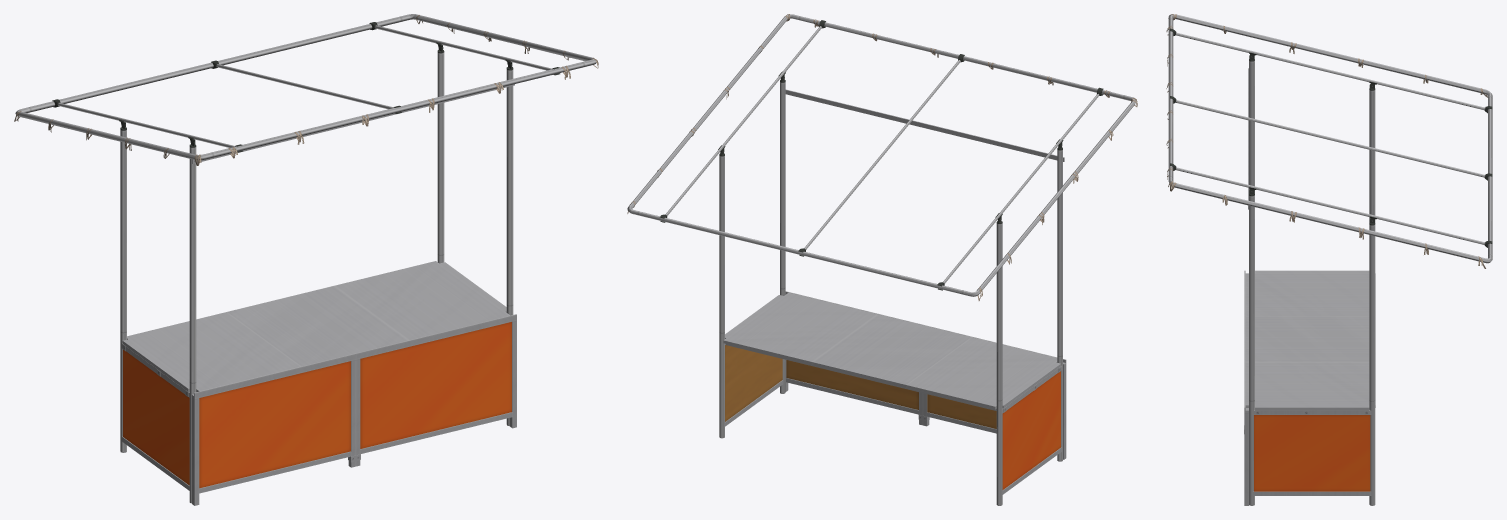
The model's file is jsf_4P_s02_c01_t01.fbx.
The picture shows the model from 3 angles, left to right: view 1: azimuth 30°, elevation 25°; view 2: azimuth 150°, elevation 25°; view 3: azimuth 270°, elevation 25°; orthographic projection. The views are drawn at different scales.
Visible parts, largest first — view 1: Base_s02_c01, Table_4P_s02_t01, Pillar4_s02, Rope_4P_s02; view 2: Table_4P_s02_t01, Pillar4_s02, Base_s02_c01, Rope_4P_s02; view 3: Table_4P_s02_t01, Pillar4_s02, Base_s02_c01, Rope_4P_s02.
Part boxes in pixels (bbox=[...]): Base_s02_c01: bbox=[121, 314, 516, 505]; Table_4P_s02_t01: bbox=[122, 261, 509, 396]; Pillar4_s02: bbox=[15, 14, 596, 503]; Rope_4P_s02: bbox=[14, 15, 598, 165]; Table_4P_s02_t01: bbox=[723, 292, 1061, 412]; Pillar4_s02: bbox=[627, 14, 1136, 505]; Base_s02_c01: bbox=[725, 291, 1066, 494]; Rope_4P_s02: bbox=[627, 14, 1137, 300]; Table_4P_s02_t01: bbox=[1245, 270, 1375, 414]; Pillar4_s02: bbox=[1168, 14, 1492, 505]; Base_s02_c01: bbox=[1244, 270, 1371, 505]; Rope_4P_s02: bbox=[1166, 14, 1487, 268].
Bounding box in the file's own units: 264 × 243 × 211.
